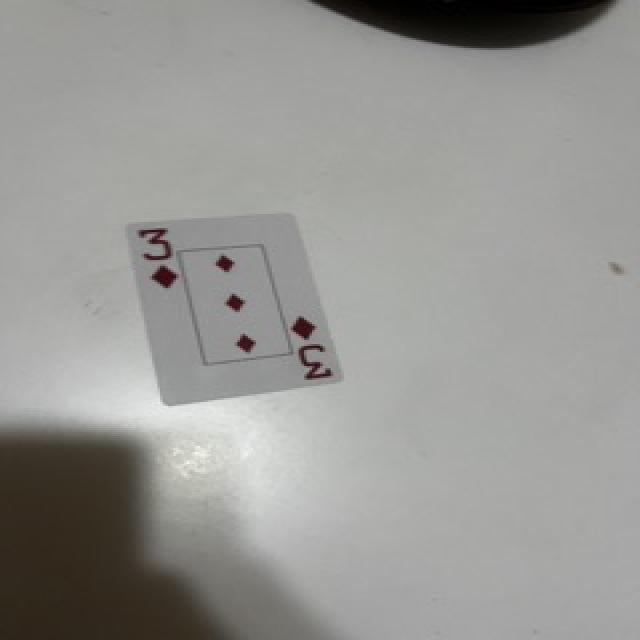3 of diamonds: (127, 215, 342, 404)
